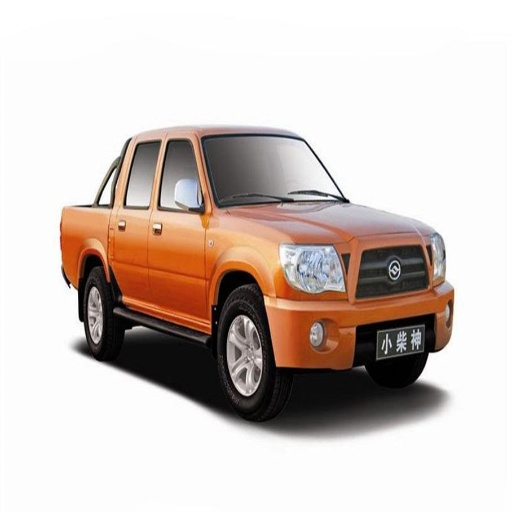back_left_light: (110, 138, 164, 303)
back_right_light: (268, 243, 454, 369)
front_bumper: (200, 135, 349, 205)
front_left_door: (428, 236, 446, 284)
front_left_light: (149, 136, 207, 319)
front_right_door: (279, 240, 346, 297)
front_right_light: (236, 203, 432, 246)
tailgate: (56, 208, 104, 287)
trunk: (218, 287, 291, 420), (81, 269, 121, 358), (372, 356, 425, 386)
